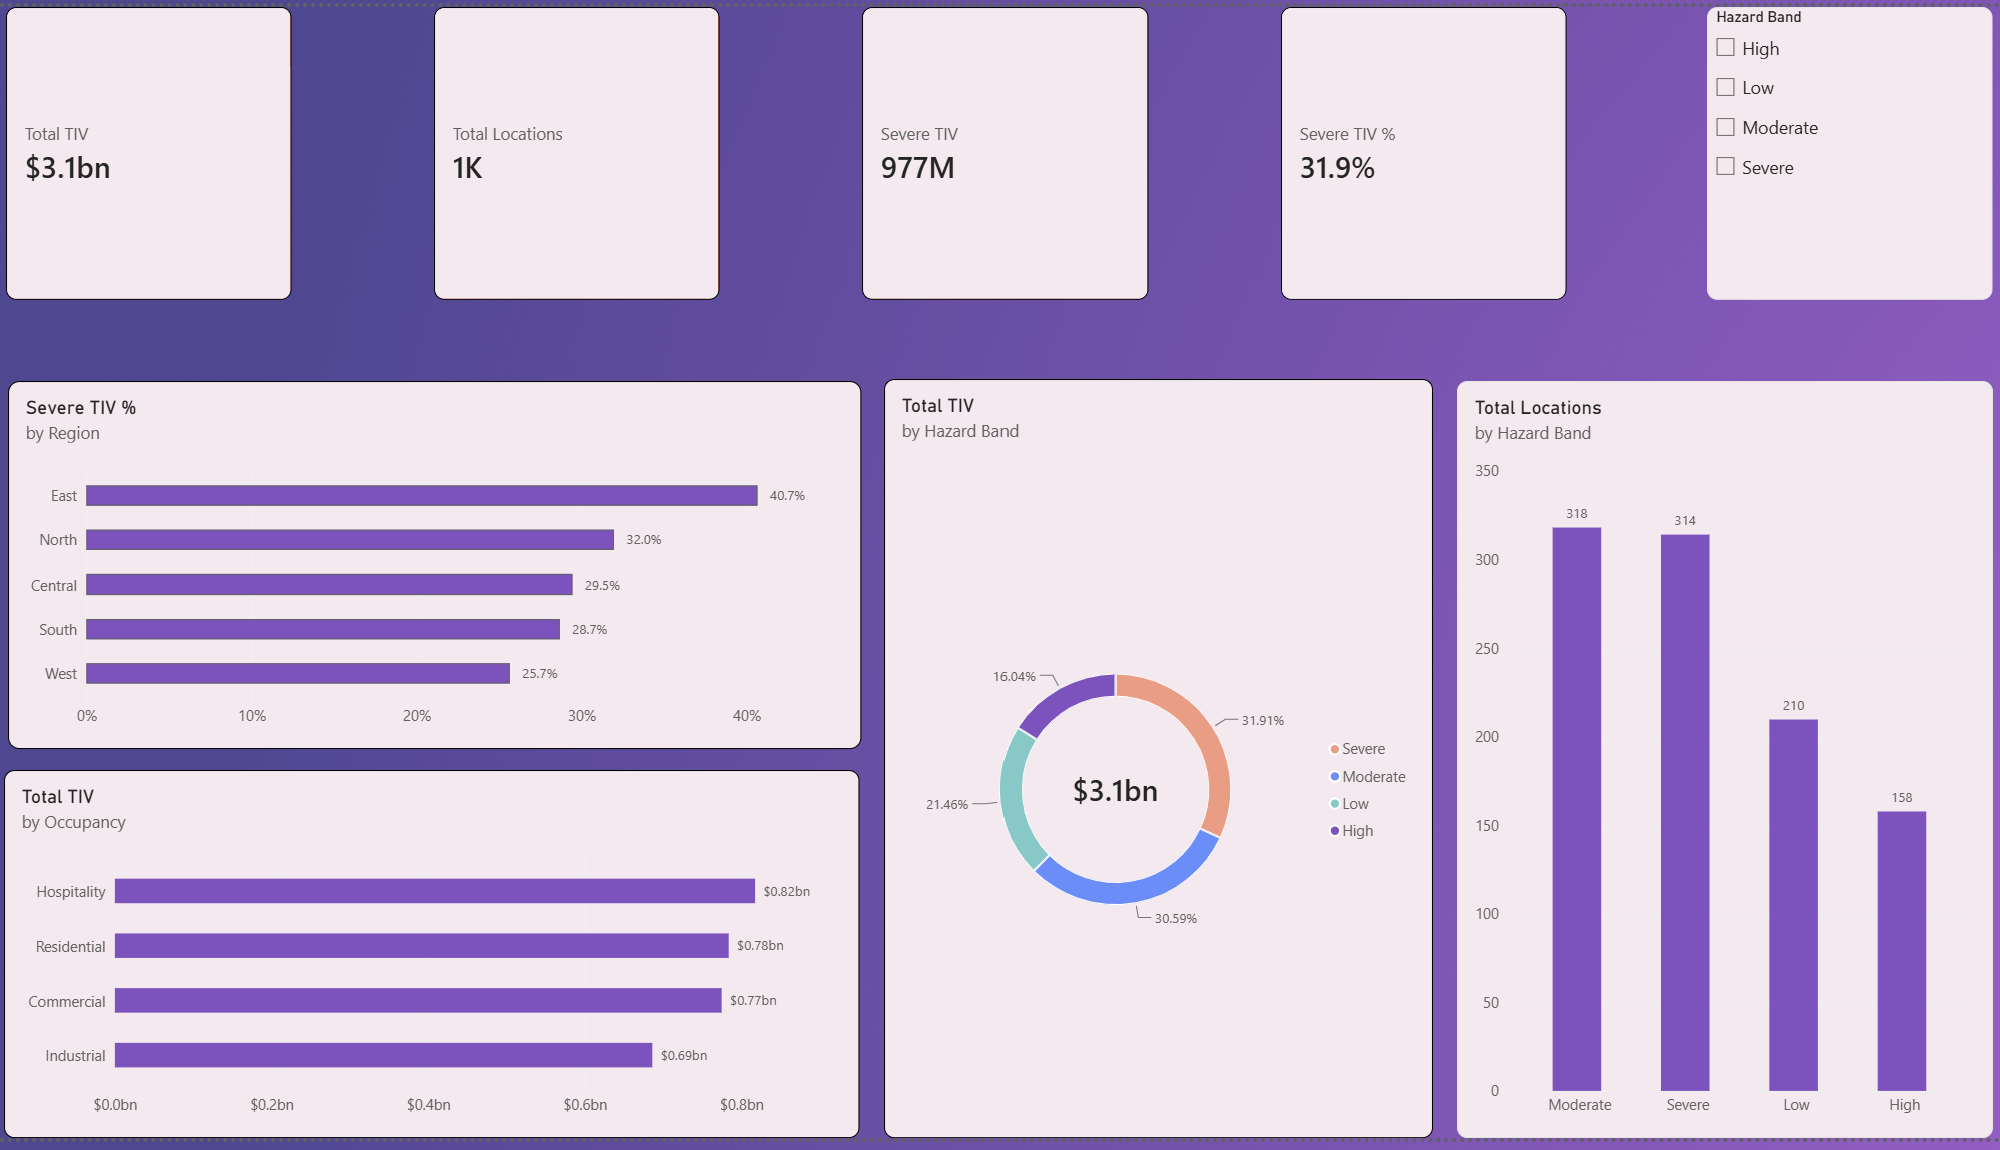

The dashboard page shown, as its layout file describes it:
{"tool":"powerbi","page":{"name":"Exposure Overview","canvas":[1920,1080],"ordinal":0},"visuals":[{"type":"cardVisual","fields":{"Data":["Exposure.Total TIV"]},"box":[10,0,273,280],"z":0},{"type":"cardVisual","fields":{"Data":["Exposure.Total Locations"]},"box":[418,0,273,280],"z":1000},{"type":"clusteredBarChart","fields":{"Category":["Exposure.Region"],"Y":["Exposure.Severe TIV %"]},"box":[11.5,357.6,816,351],"z":2000},{"type":"donutChart","fields":{"Y":["Exposure.Total TIV"],"Category":["Hazard.HazardBand"]},"box":[854.8,357.6,524,724],"z":3000},{"type":"cardVisual","fields":{"Data":["Exposure.Severe TIV"]},"box":[828,0,273,280],"z":4000},{"type":"cardVisual","fields":{"Data":["Exposure.Severe TIV %"]},"box":[1228,0,273,280],"z":5000},{"type":"slicer","fields":{"Values":["Hazard.Hazard Band"]},"box":[1635.1,0,273,280],"z":6000},{"type":"clusteredBarChart","fields":{"Category":["Exposure.Occupancy"],"Y":["Exposure.Total TIV"]},"box":[7.6,728.6,818,352],"z":7000},{"type":"clusteredColumnChart","fields":{"Category":["Hazard.Hazard Band"],"Y":["Exposure.Total Locations"]},"box":[1396,357.6,512.5,722.9],"z":8000}]}

Visuals, with their boxes in screenshot pixels (x1, y1, x2, y2), scaled from the page's 1920x1080 canvas onto the 2000x1150 screenshot:
cardVisual - Exposure.Total TIV: [left=10, top=0, right=295, bottom=298]
cardVisual - Exposure.Total Locations: [left=435, top=0, right=720, bottom=298]
clusteredBarChart - Exposure.Region x Exposure.Severe TIV %: [left=12, top=381, right=862, bottom=755]
donutChart - Exposure.Total TIV x Hazard.HazardBand: [left=890, top=381, right=1436, bottom=1149]
cardVisual - Exposure.Severe TIV: [left=863, top=0, right=1147, bottom=298]
cardVisual - Exposure.Severe TIV %: [left=1279, top=0, right=1564, bottom=298]
slicer - Hazard.Hazard Band: [left=1703, top=0, right=1988, bottom=298]
clusteredBarChart - Exposure.Occupancy x Exposure.Total TIV: [left=8, top=776, right=860, bottom=1149]
clusteredColumnChart - Hazard.Hazard Band x Exposure.Total Locations: [left=1454, top=381, right=1988, bottom=1149]
